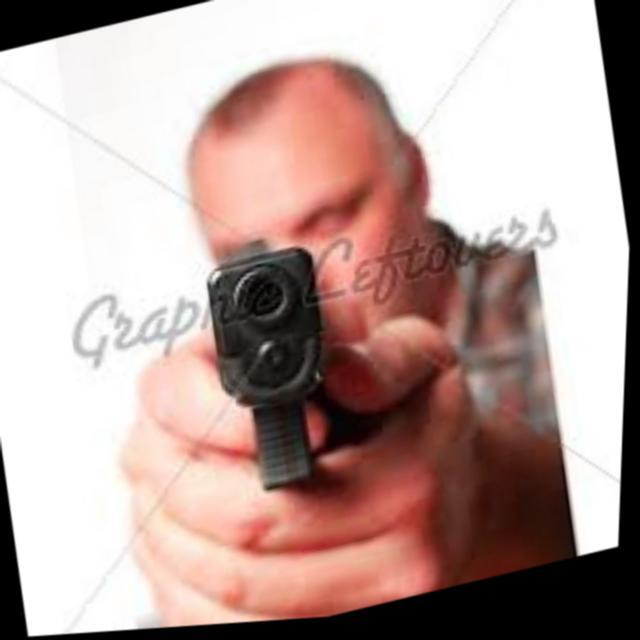weapon: (185, 225, 362, 512)
